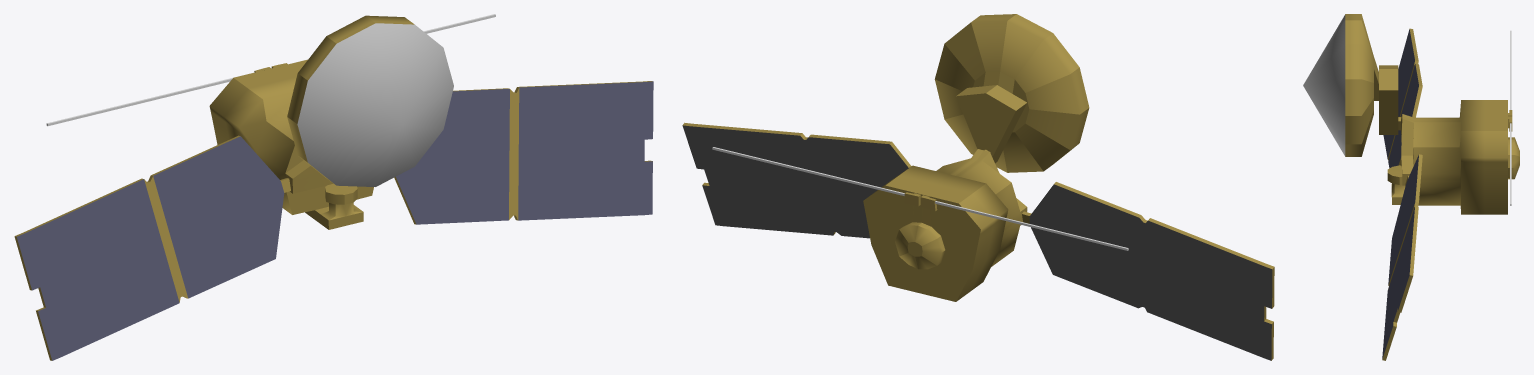
File: Mars Reconnaissance Orbiter.glb
The picture shows the model from 3 angles, left to right: view 1: azimuth 30°, elevation 25°; view 2: azimuth 150°, elevation 25°; view 3: azimuth 270°, elevation 25°; orthographic projection. The views are drawn at different scales.
Parts seen in each view (by area): view 1: MRO; view 2: MRO; view 3: MRO.
Boxes of the visible parts, <box> form: MRO: <box>14,14,653,360</box>; MRO: <box>682,14,1274,360</box>; MRO: <box>1303,14,1519,360</box>.
Size of the model in its own units: 0.6216 by 0.2636 by 0.231.
